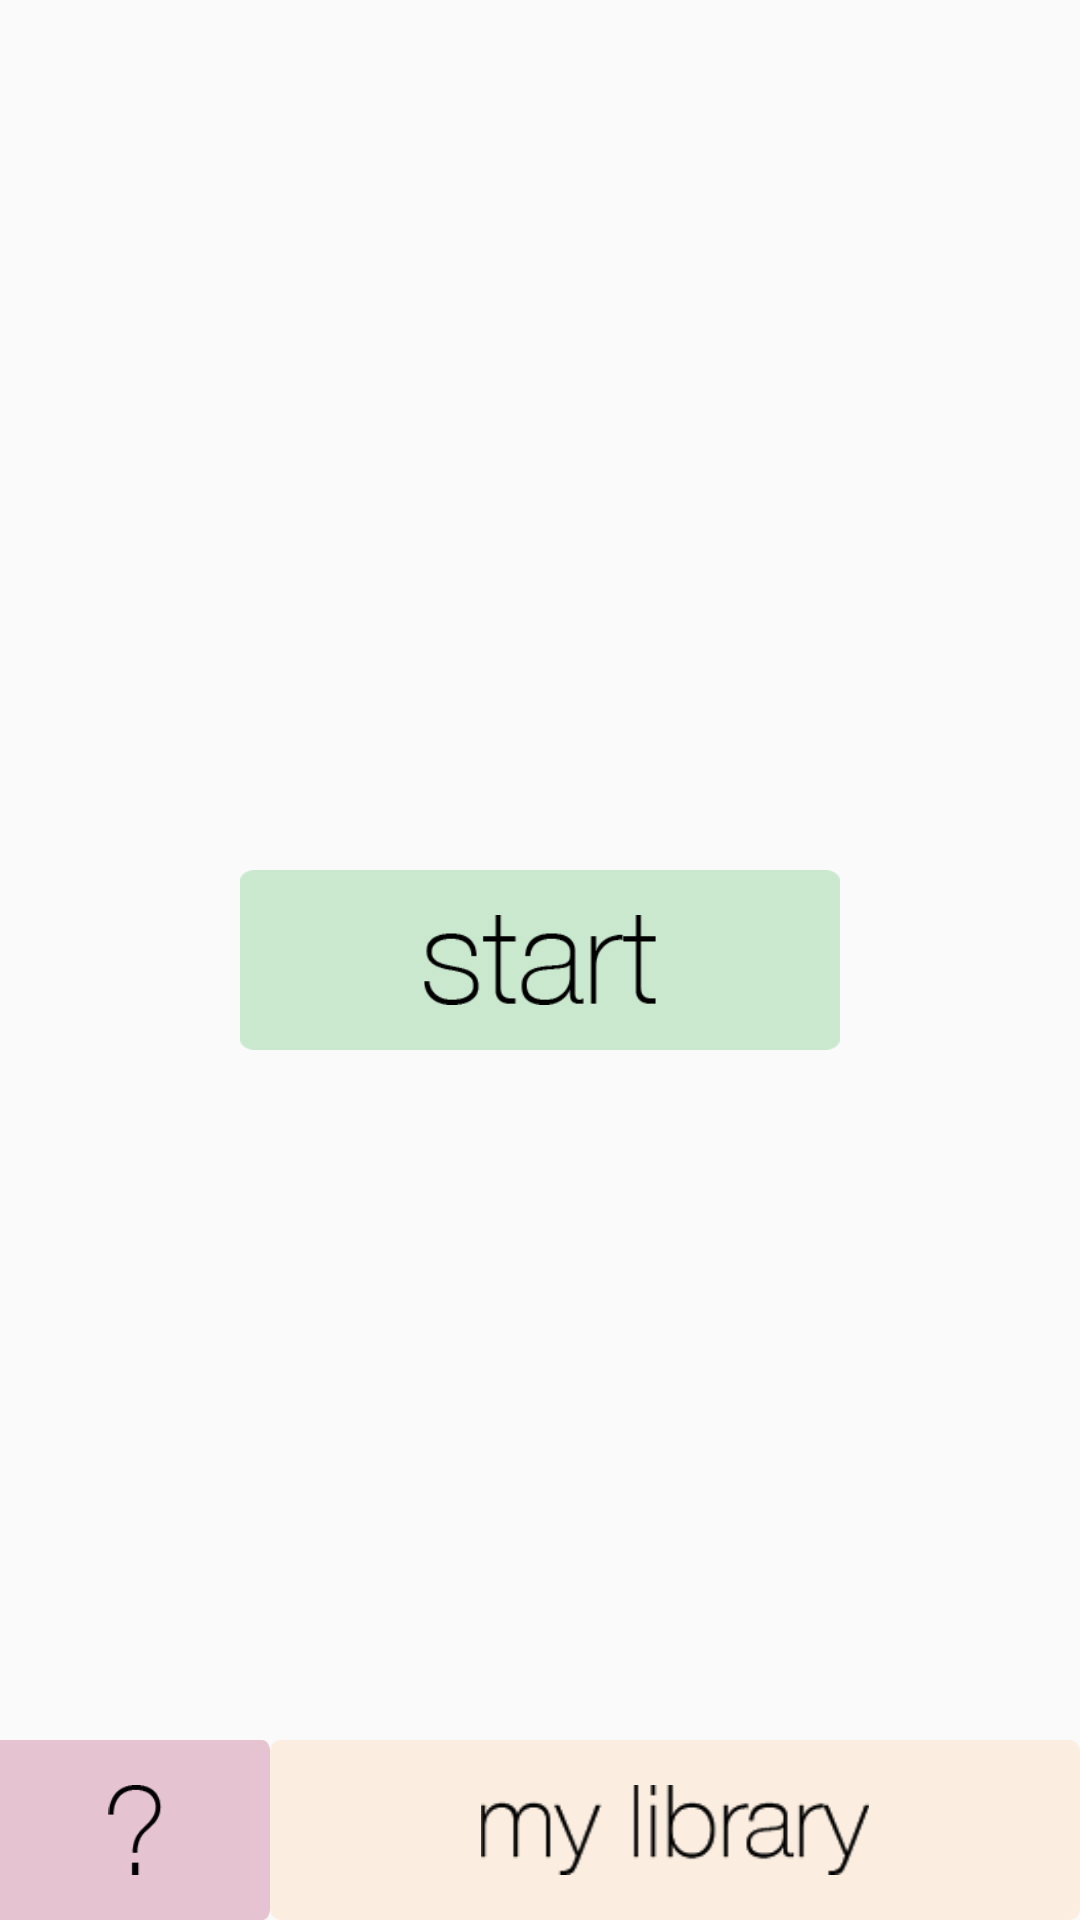

Named icons in this screenshot (1080*1920) and their bounding boxes, (x1, y1, x2, y2):
help: (0, 1740, 270, 1920)
